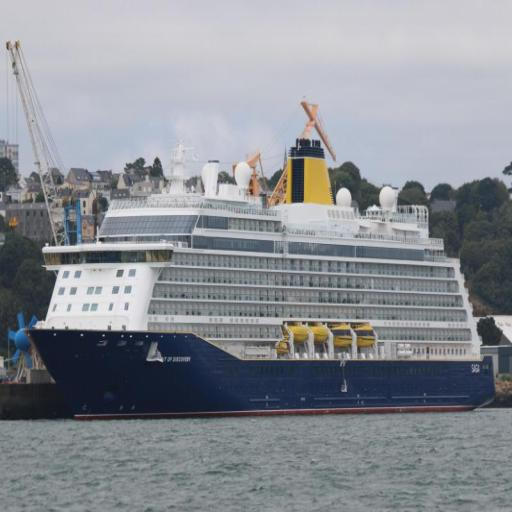cruises: (27, 136, 499, 430)
